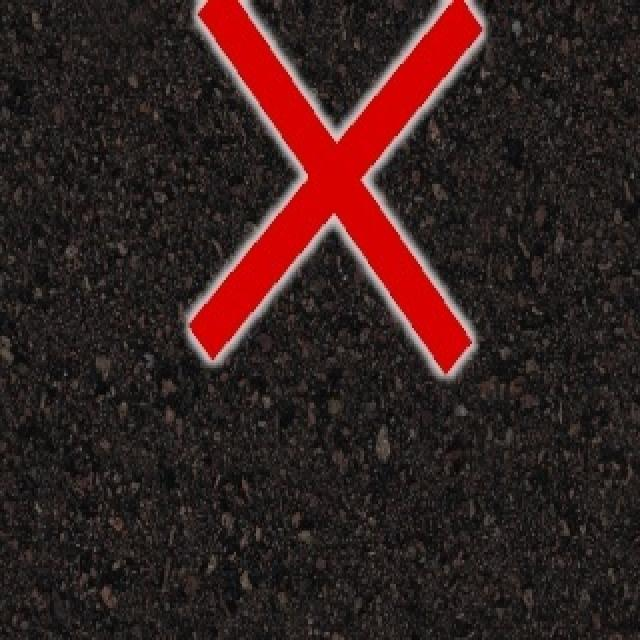x_marker: (189, 0, 481, 371)
